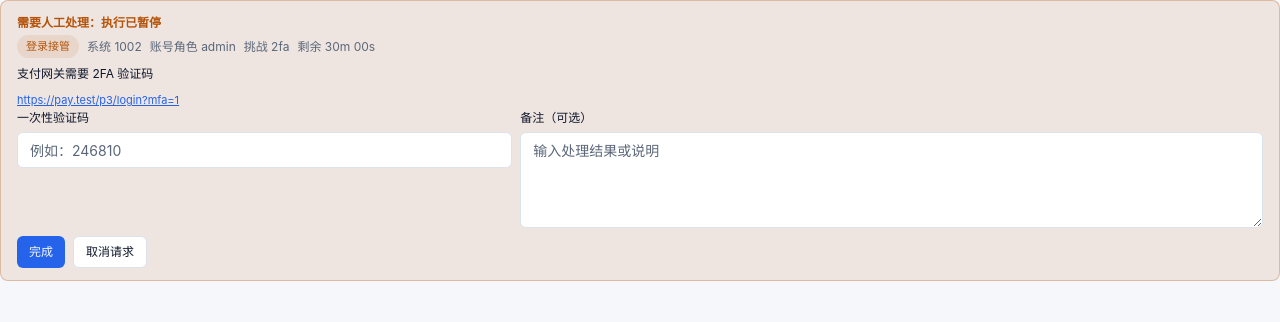
Test: HumanRequestBanner › keeps the banner and shows the error when resolve fails
Click the button "完成" at (41,252), box [17,236,65,268]
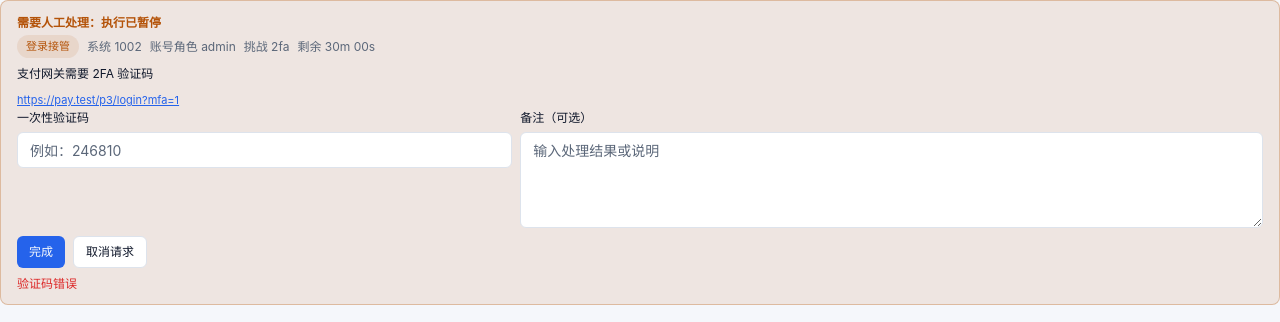
Check: the text "验证码错误" is shown, box [17,276,77,291]
